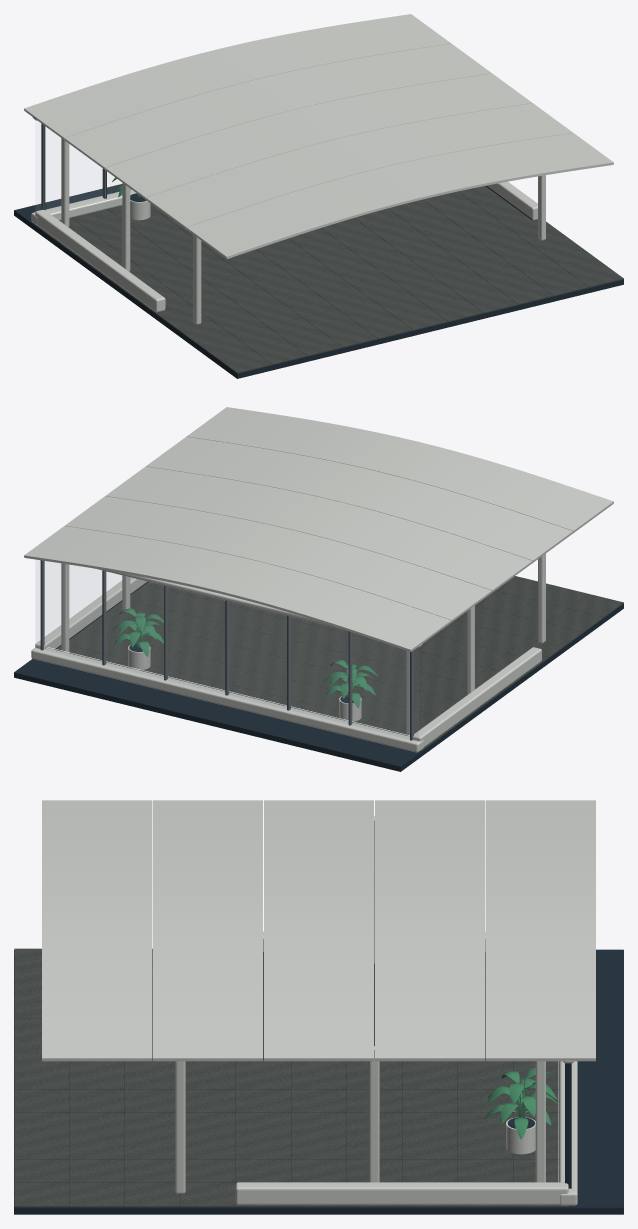
Rendered from architecture.glb.
3 renders of one model, top to bottom at view 1: azimuth 30°, elevation 25°; view 2: azimuth 150°, elevation 25°; view 3: azimuth 270°, elevation 25°, orthographic. The views are drawn at different scales.
Visible parts, largest first — view 1: Static_Architecture; view 2: Static_Architecture; view 3: Static_Architecture.
Part boxes in pixels (left/top/right/bottom): Static_Architecture: left=14, top=14, right=623, bottom=378; Static_Architecture: left=14, top=407, right=623, bottom=771; Static_Architecture: left=14, top=800, right=623, bottom=1214.
Size of the model in its own units: 22.01 by 6.89 by 22.
Materials: 8 (3 with a texture image).
